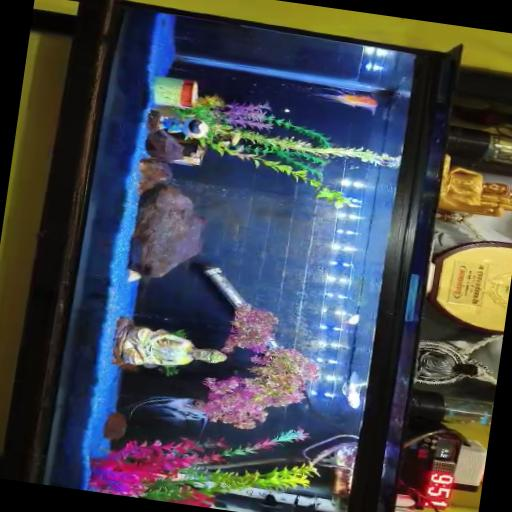Fish: (126, 396, 206, 432), (313, 88, 376, 114)
